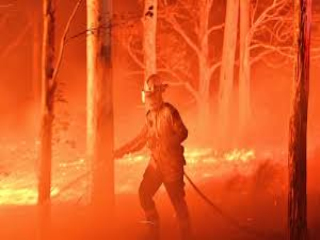fire: (195, 130, 259, 171), (5, 179, 62, 212)
